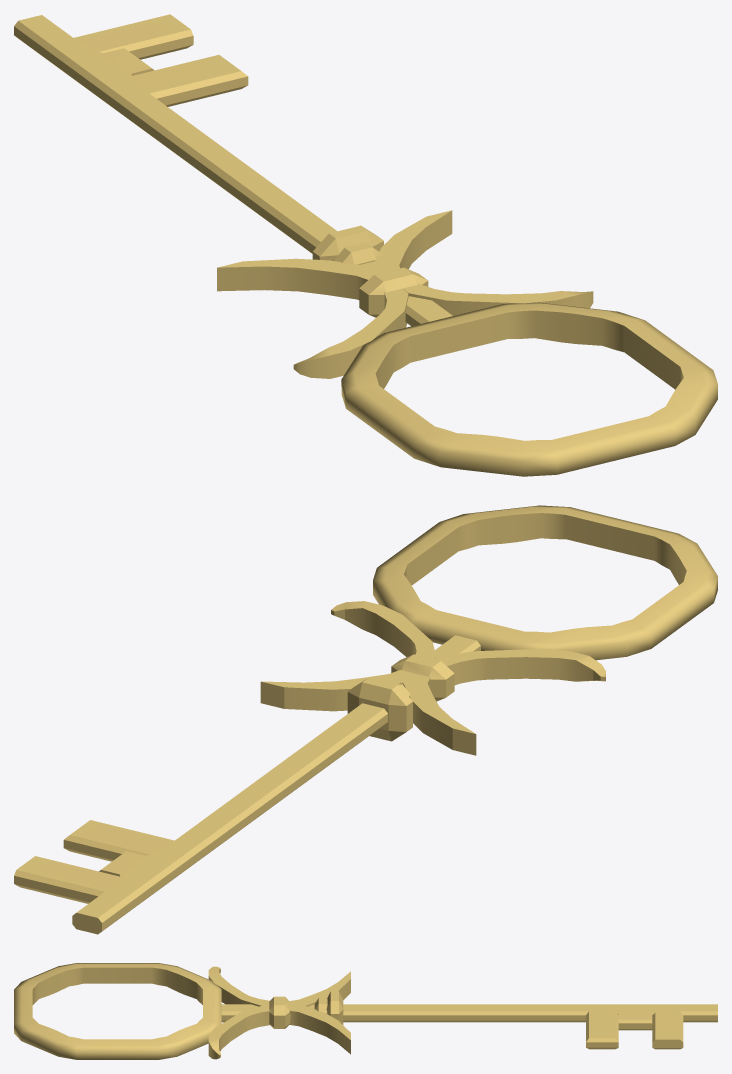
Rendered from Key.fbx.
3 views of the same model, one above another, from view 1: azimuth 30°, elevation 25°; view 2: azimuth 150°, elevation 25°; view 3: azimuth 270°, elevation 25° (orthographic). The views are drawn at different scales.
Visible parts, largest first — view 1: CircleKey, Key, HalfMoonR, HalfMoonL, RingHalfMoons, BigRing; view 2: CircleKey, Key, HalfMoonR, HalfMoonL, BigRing, RingHalfMoons; view 3: CircleKey, Key, HalfMoonL, HalfMoonR, RingHalfMoons, BigRing, SmallRing.
Part boxes in pixels (x1,y1,x2,y2): CircleKey: [341, 302, 717, 476]; Key: [14, 14, 452, 326]; HalfMoonR: [217, 258, 408, 378]; HalfMoonL: [372, 210, 593, 315]; RingHalfMoons: [359, 267, 428, 317]; BigRing: [312, 225, 383, 260]; CircleKey: [373, 505, 717, 660]; Key: [14, 635, 480, 934]; HalfMoonR: [403, 648, 605, 755]; HalfMoonL: [260, 601, 436, 711]; BigRing: [347, 677, 412, 741]; RingHalfMoons: [391, 654, 454, 701]; CircleKey: [14, 963, 221, 1059]; Key: [221, 1004, 717, 1049]; HalfMoonL: [208, 1005, 350, 1059]; HalfMoonR: [208, 966, 350, 1006]; RingHalfMoons: [269, 996, 289, 1028]; BigRing: [326, 991, 343, 1024]; SmallRing: [314, 997, 327, 1013].
Size of the model in its own units: 15.69 by 2.83 by 52.98.
